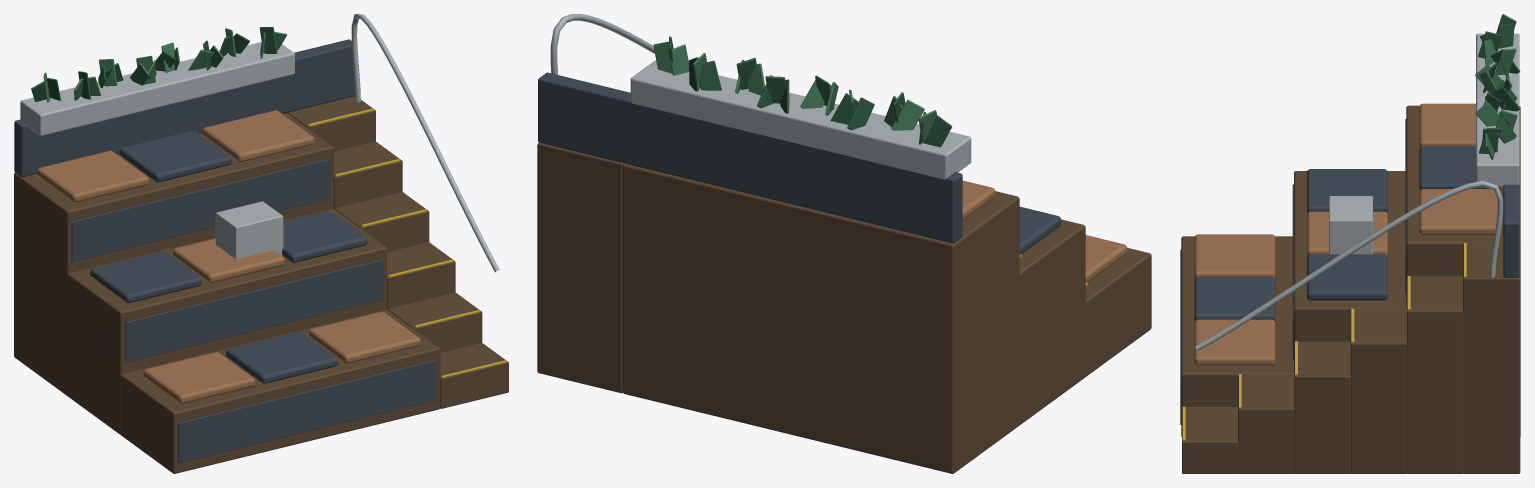
File: campus-bleacher-slate.glb
The picture shows the model from 3 angles, left to right: view 1: azimuth 30°, elevation 25°; view 2: azimuth 150°, elevation 25°; view 3: azimuth 270°, elevation 25°; orthographic projection. The views are drawn at different scales.
Bounding box in the file's own units: 2.25 × 1.81 × 1.87.
